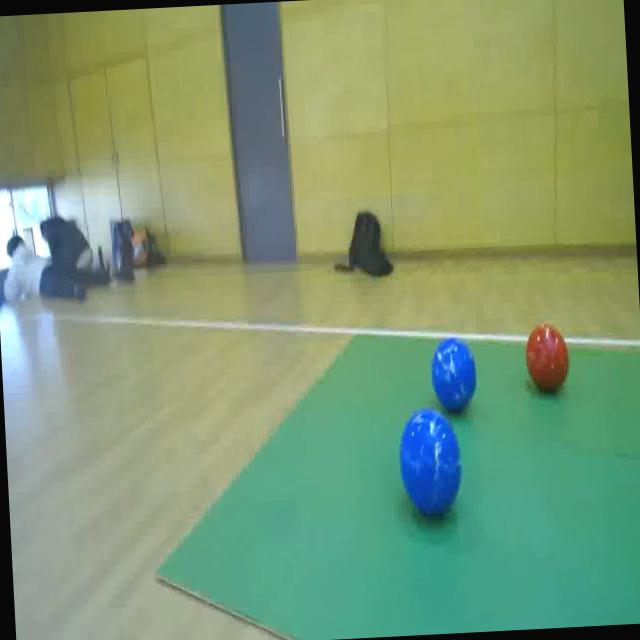blue_ball: (397, 407, 465, 522), (428, 334, 478, 418)
red_ball: (524, 322, 570, 397)
